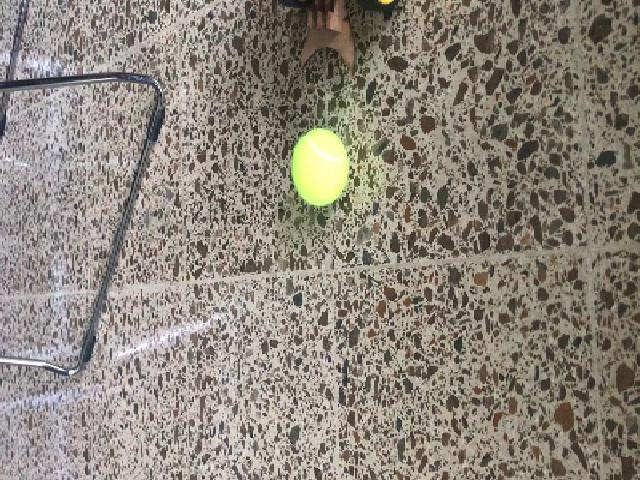Ball: (290, 128, 347, 206)
Robot: (272, 4, 390, 67)
